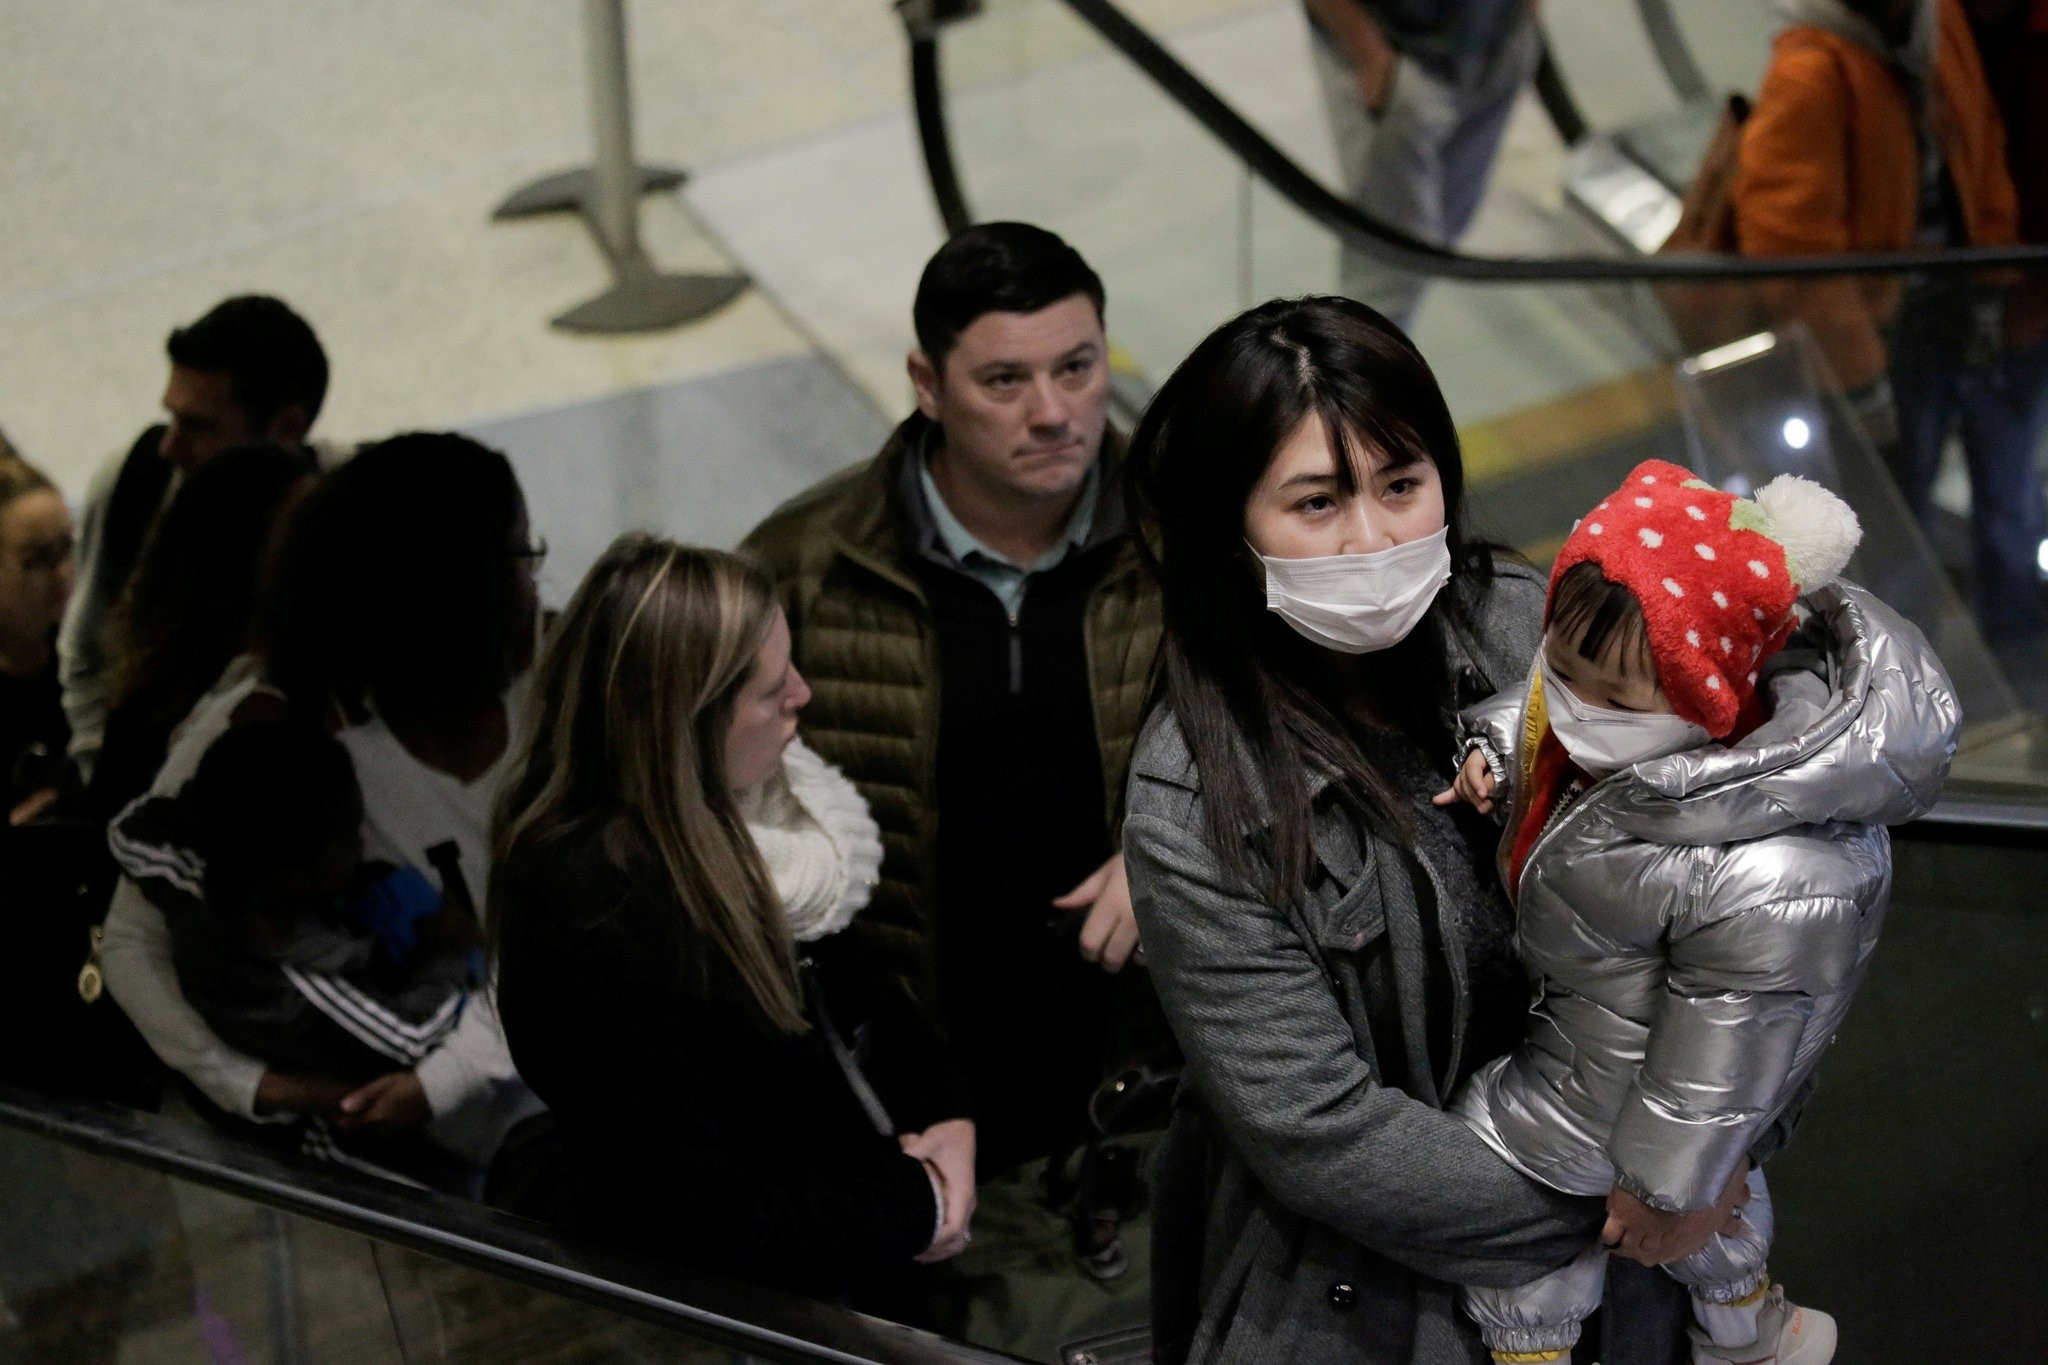face_no_mask: (913, 231, 1115, 494), (613, 543, 817, 787), (155, 292, 320, 476)
face_with_mask: (1181, 310, 1456, 657), (1541, 541, 1757, 782)
